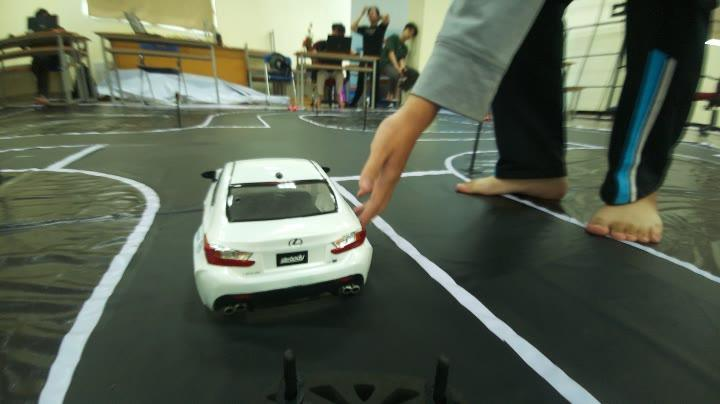car: (171, 138, 375, 324)
